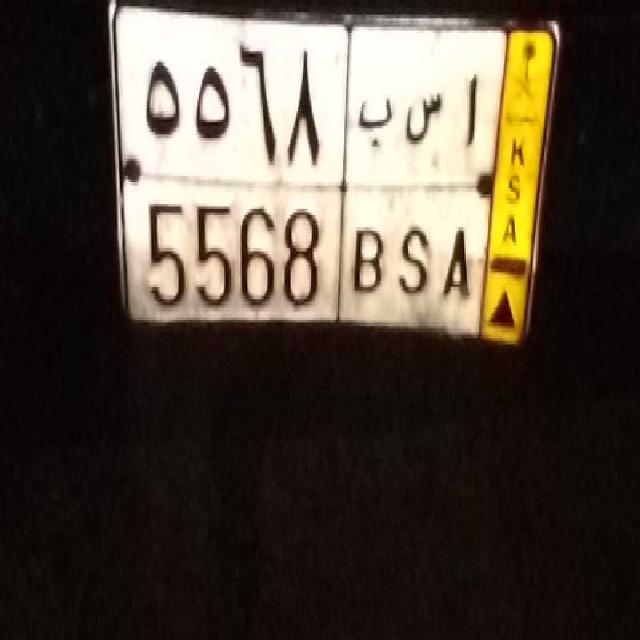license_plate: (137, 171, 480, 354)
